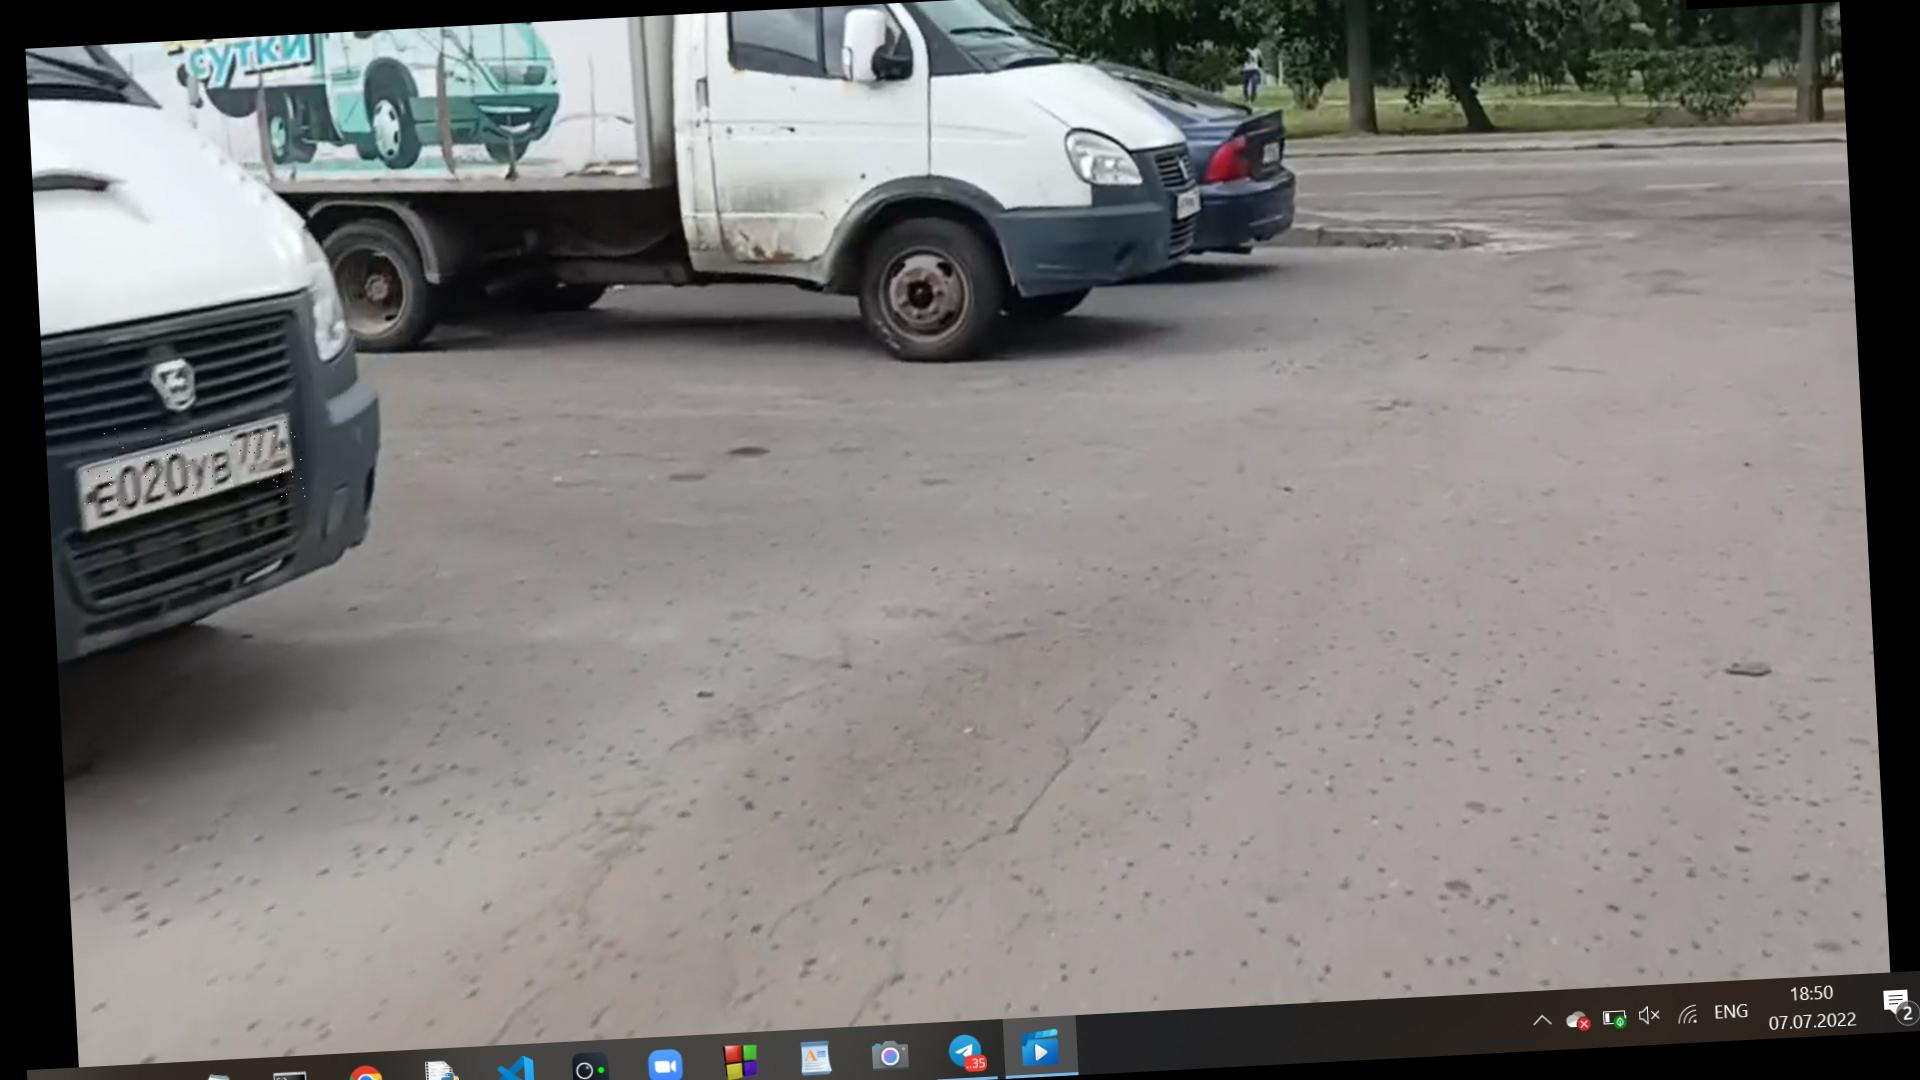plate: (82, 419, 308, 509)
